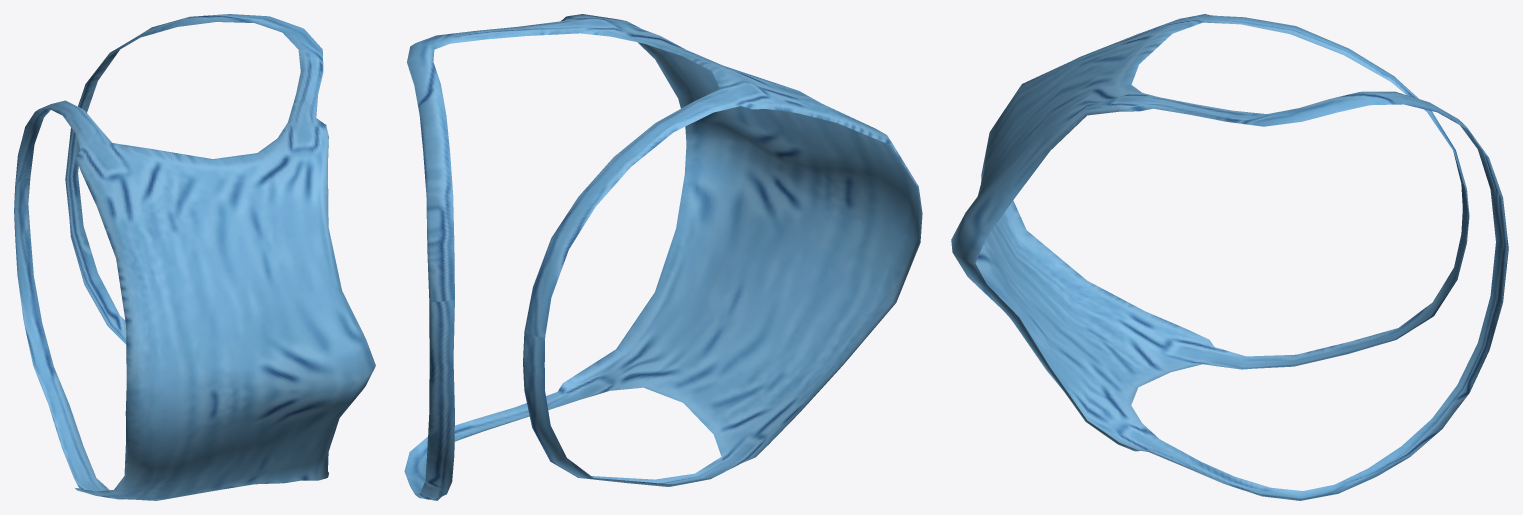
File: M_DentistSurgicalMask.fbx
3 views of the same model, side by side, from view 1: azimuth 30°, elevation 25°; view 2: azimuth 150°, elevation 25°; view 3: azimuth 270°, elevation 25° (orthographic). The views are drawn at different scales.
Parts seen in each view (by area): view 1: DentistSurgicalMask; view 2: DentistSurgicalMask; view 3: DentistSurgicalMask.
Part boxes in pixels (x1,y1,x2,y2): DentistSurgicalMask: (14, 14, 375, 500); DentistSurgicalMask: (404, 14, 922, 500); DentistSurgicalMask: (951, 14, 1508, 500).
Size of the model in its own units: 0.0973 by 0.1109 by 0.1439.
